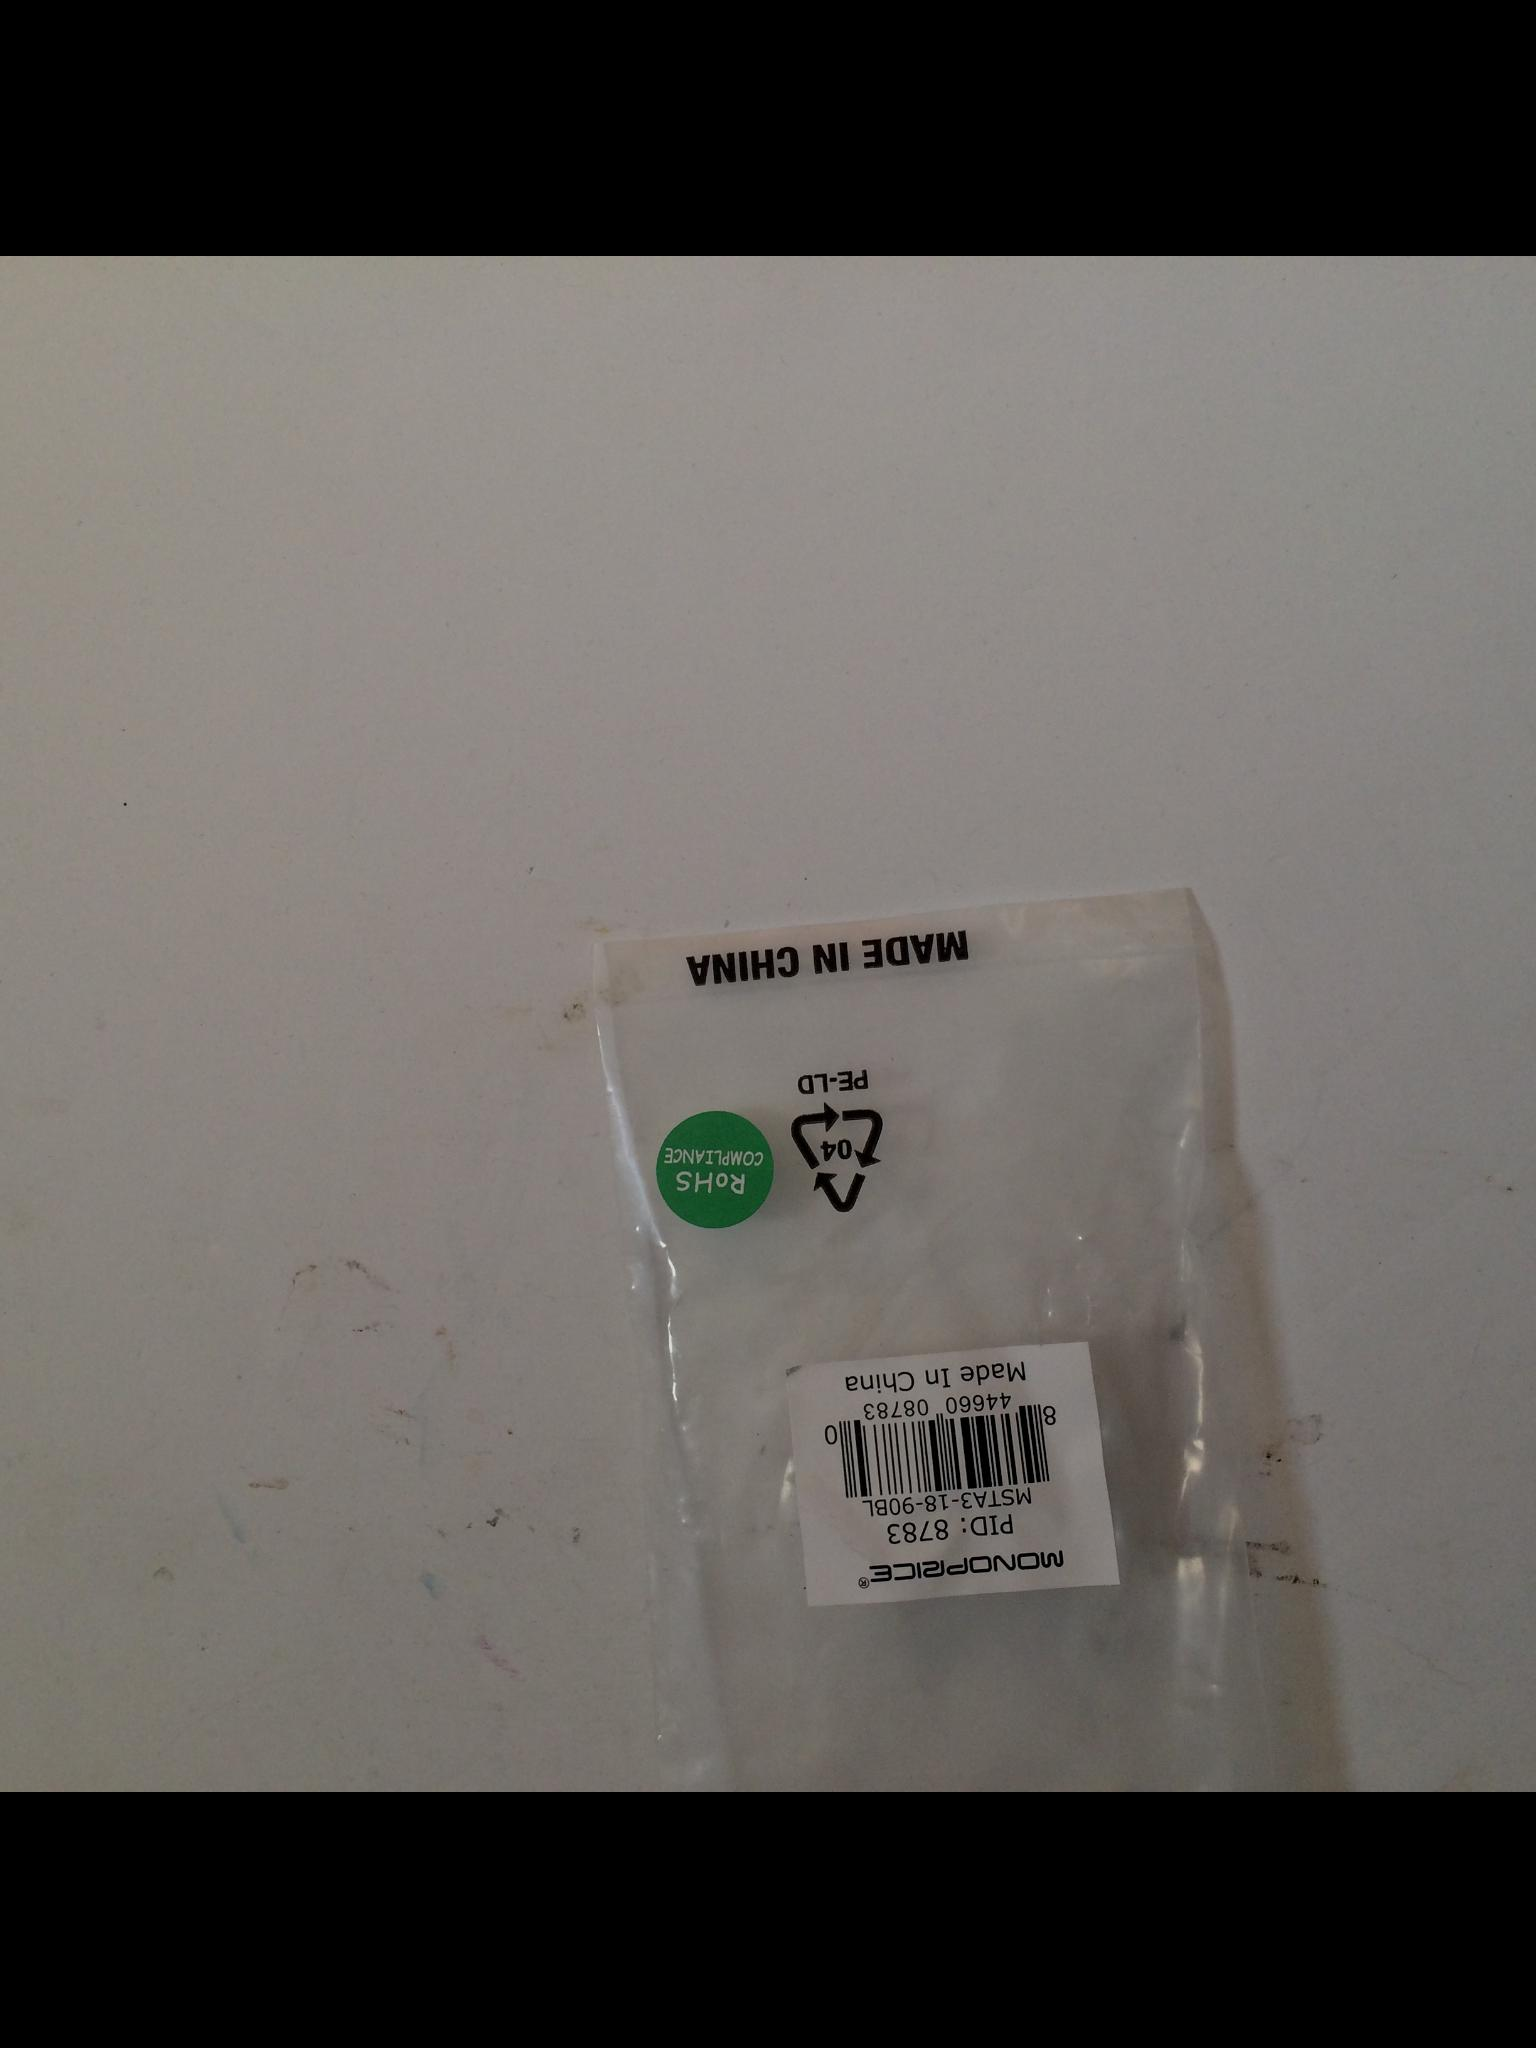Plastic: (524, 872, 1412, 1792)
